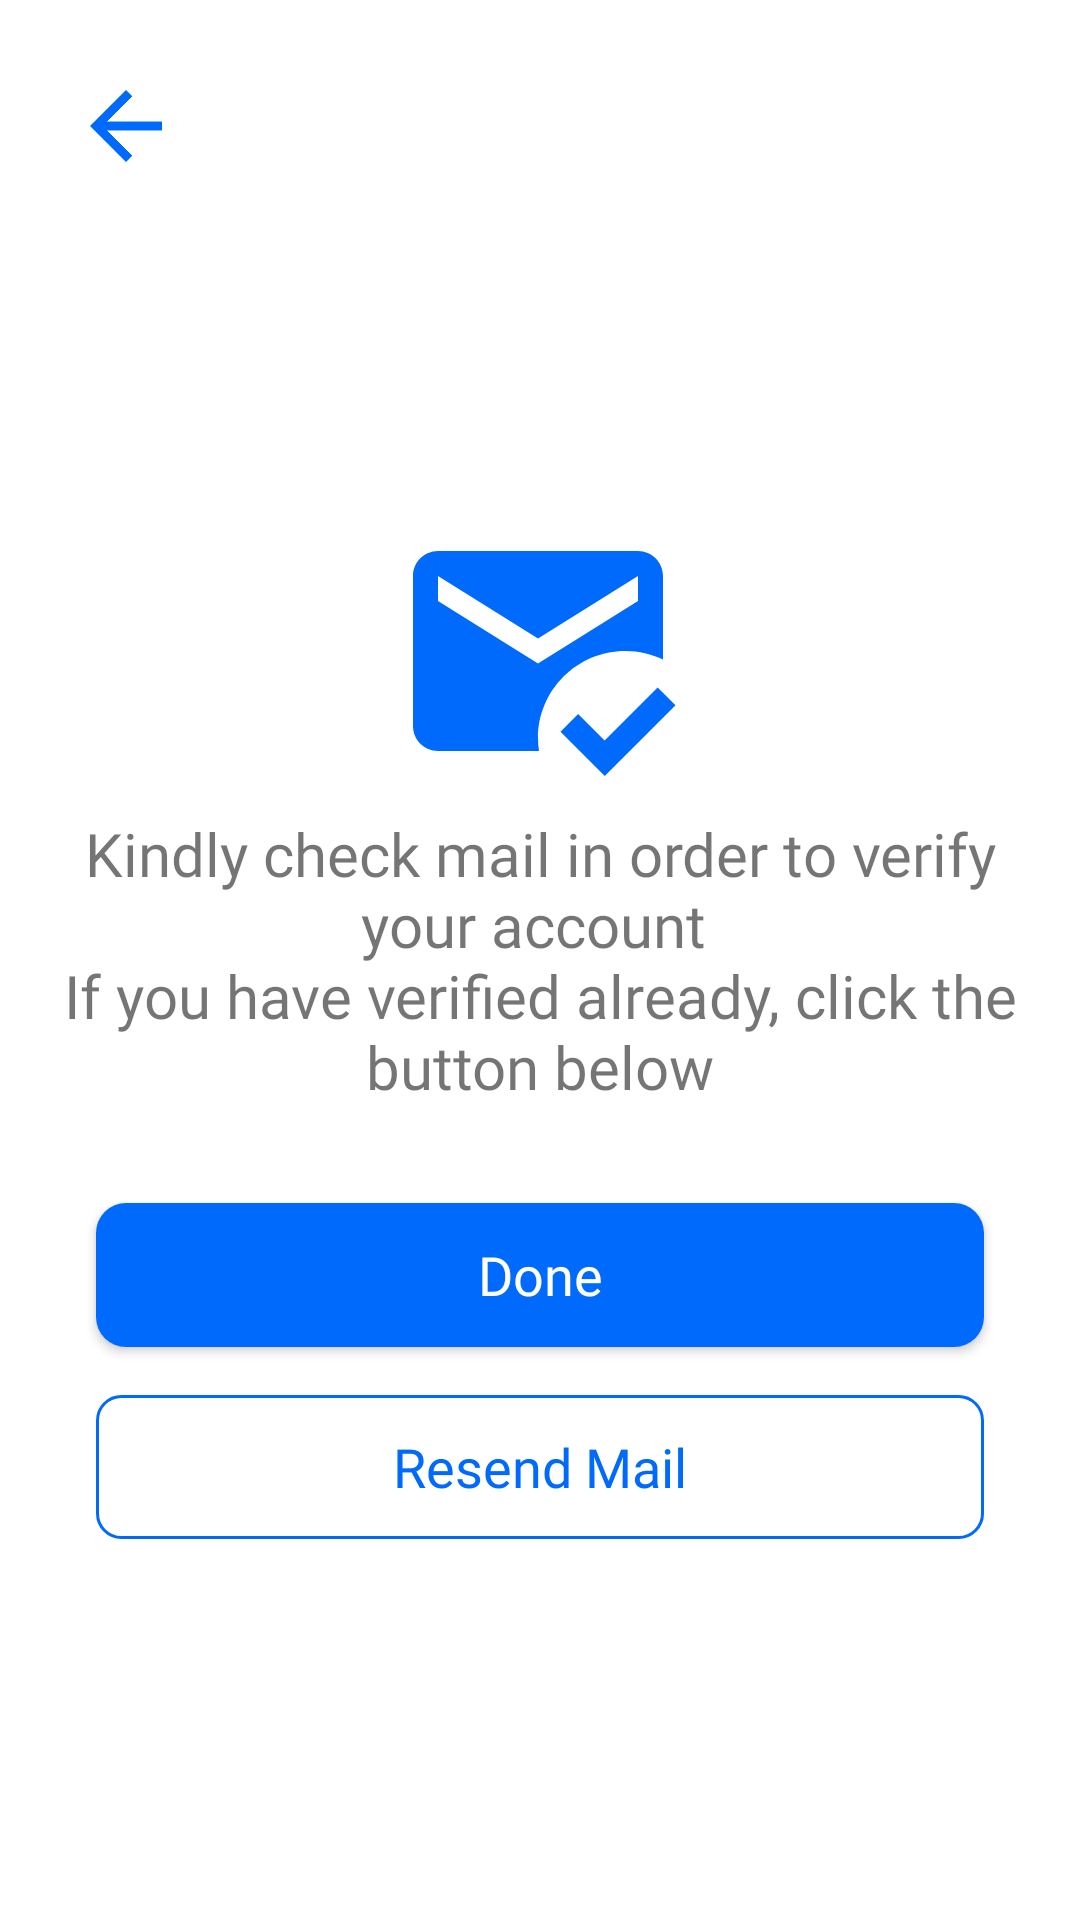

Named icons in this screenshot (1080x1920) and their bounding boxes, (x1, y1, x2, y2):
arrow back: (90, 90, 162, 162)
mark email read: (413, 551, 676, 776)
